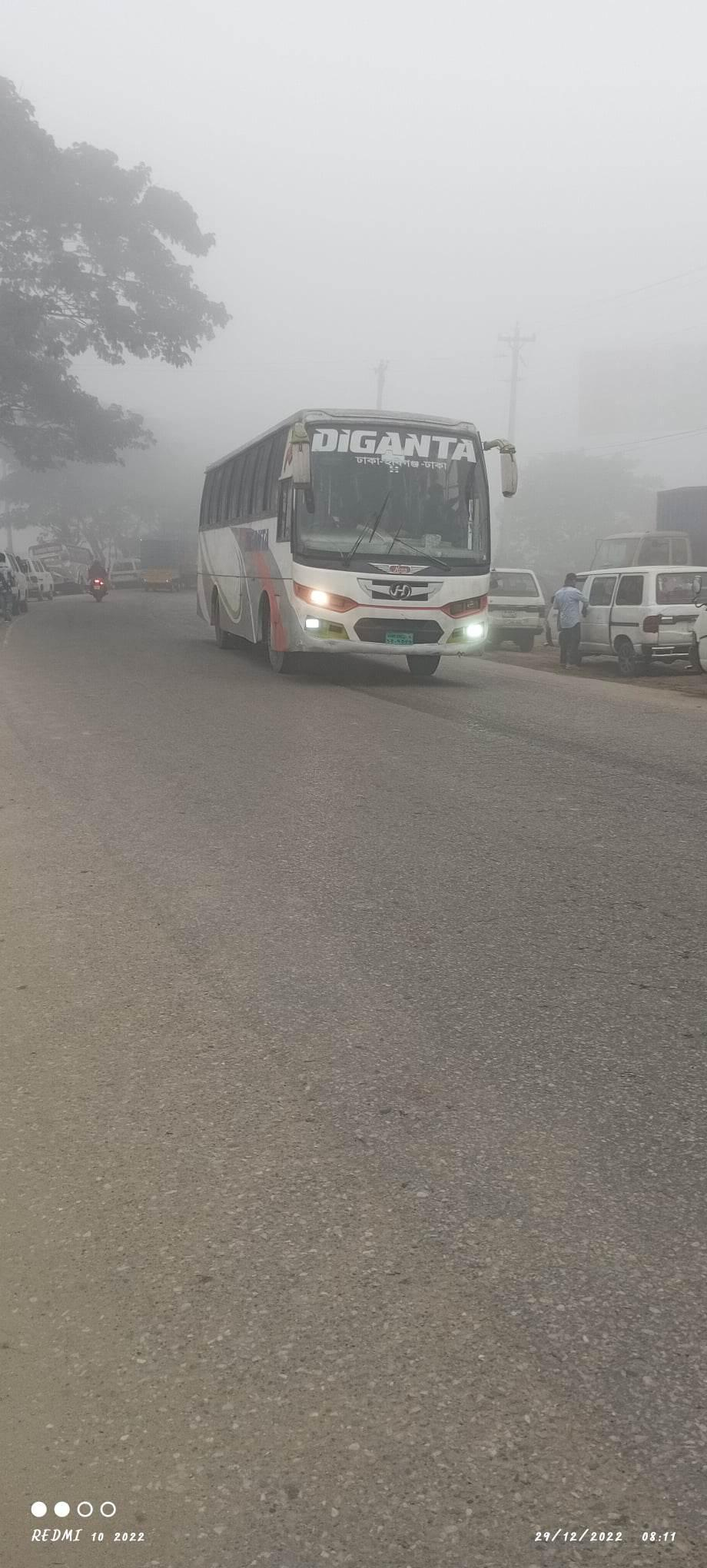Bike: (65, 548, 157, 606)
Bus: (183, 400, 518, 699)
Car: (556, 548, 701, 686)
